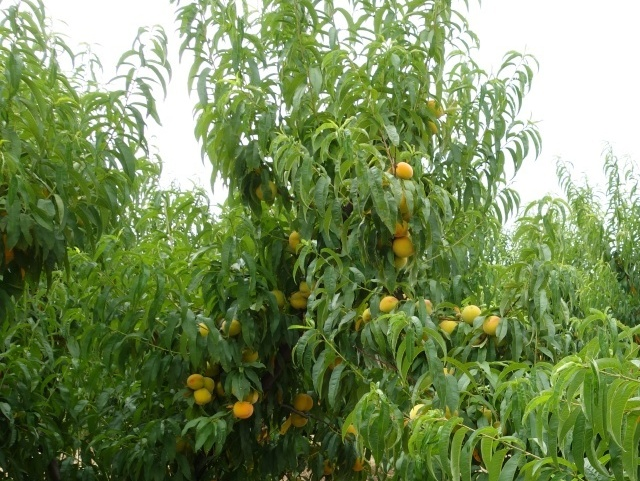peach: (389, 234, 418, 261), (385, 214, 414, 241), (226, 397, 255, 424), (386, 158, 415, 183), (189, 383, 215, 409), (216, 316, 243, 341), (459, 304, 485, 329), (377, 294, 403, 319), (290, 392, 316, 416), (285, 292, 311, 315), (287, 407, 311, 431), (255, 180, 279, 204), (283, 229, 308, 252), (295, 275, 318, 300), (438, 314, 461, 339), (183, 372, 209, 394), (480, 313, 504, 336), (237, 345, 260, 369), (196, 369, 221, 390), (240, 387, 263, 408), (391, 253, 413, 274), (271, 289, 288, 309), (359, 307, 376, 327)
